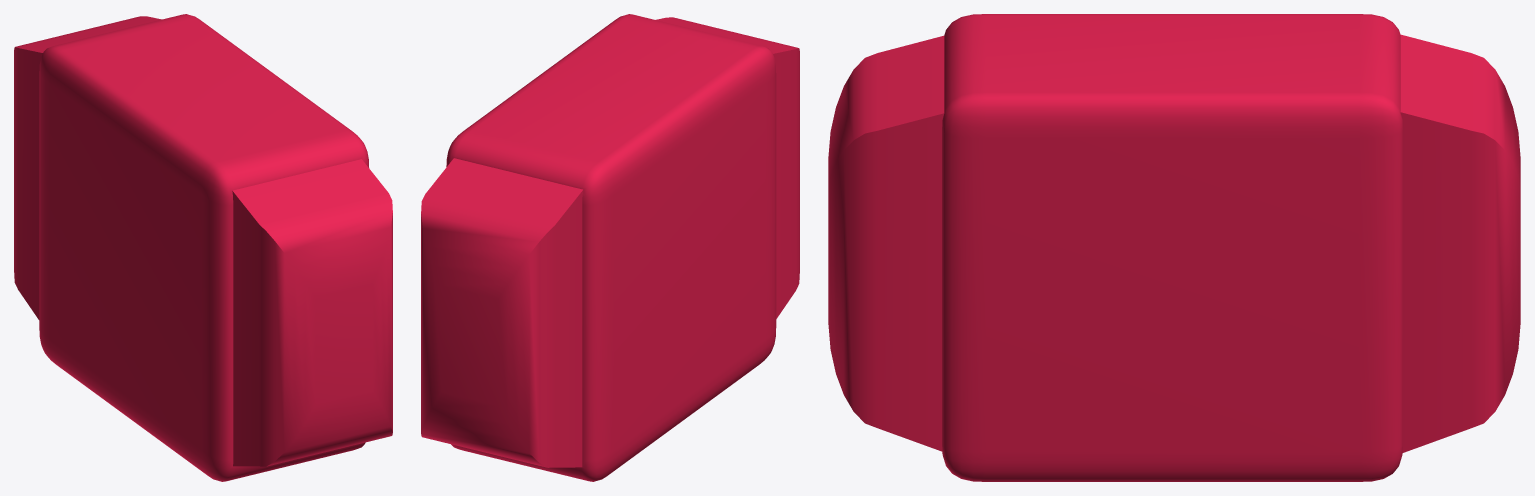
Rendered from sander box.fbx.
3 renders of one model, left to right at view 1: azimuth 30°, elevation 25°; view 2: azimuth 150°, elevation 25°; view 3: azimuth 270°, elevation 25°, orthographic. The views are drawn at different scales.
Parts seen in each view (by area): view 1: Cube; view 2: Cube; view 3: Cube.
Boxes of the visible parts, x1=… form: Cube: x1=14, y1=14, x2=392, y2=481; Cube: x1=421, y1=14, x2=799, y2=481; Cube: x1=828, y1=14, x2=1520, y2=481.
Size of the model in its own units: 0.4497 by 0.8617 by 1.4.
